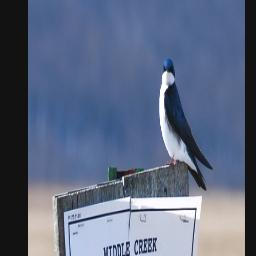Swallow: (158, 55, 212, 190)
